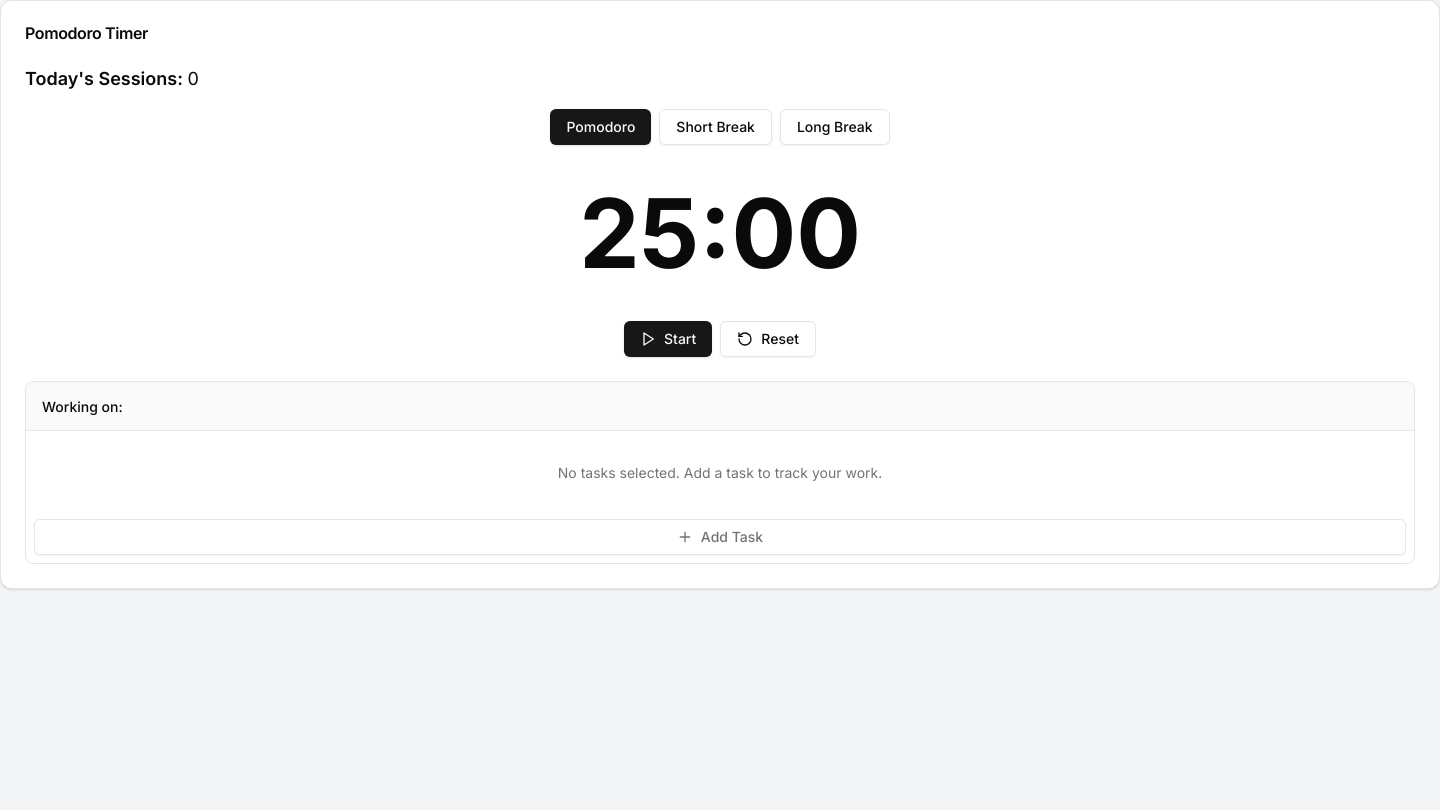
Test: PomodoroTimer › should switch between phases
Click the button "Short Break". click: point(716, 127)
box: [659,109,772,145]
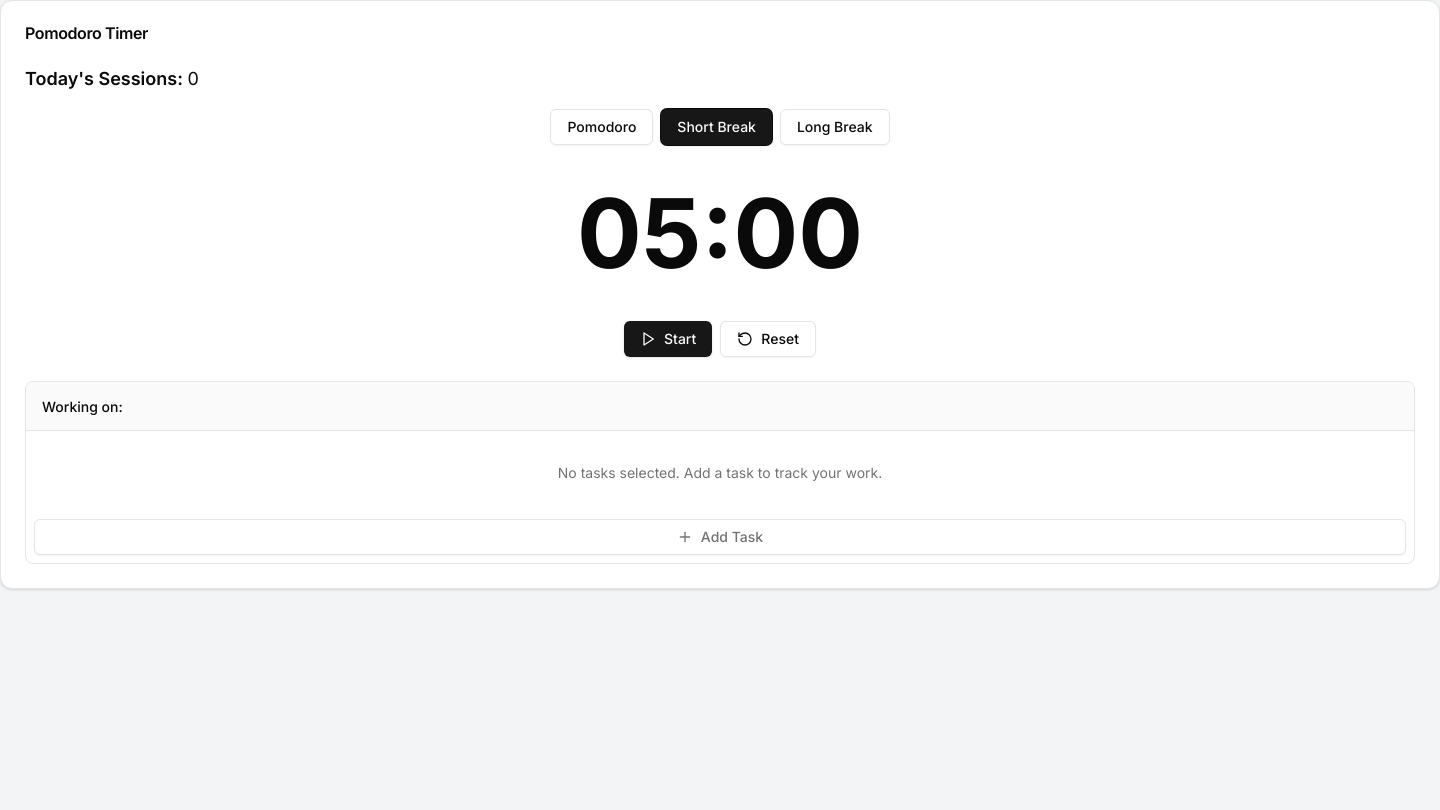
Check: the text "05:00" is shown, box [577,175,863,291]
Click the button "Long Break". click: point(835, 127)
box: [780,109,890,145]
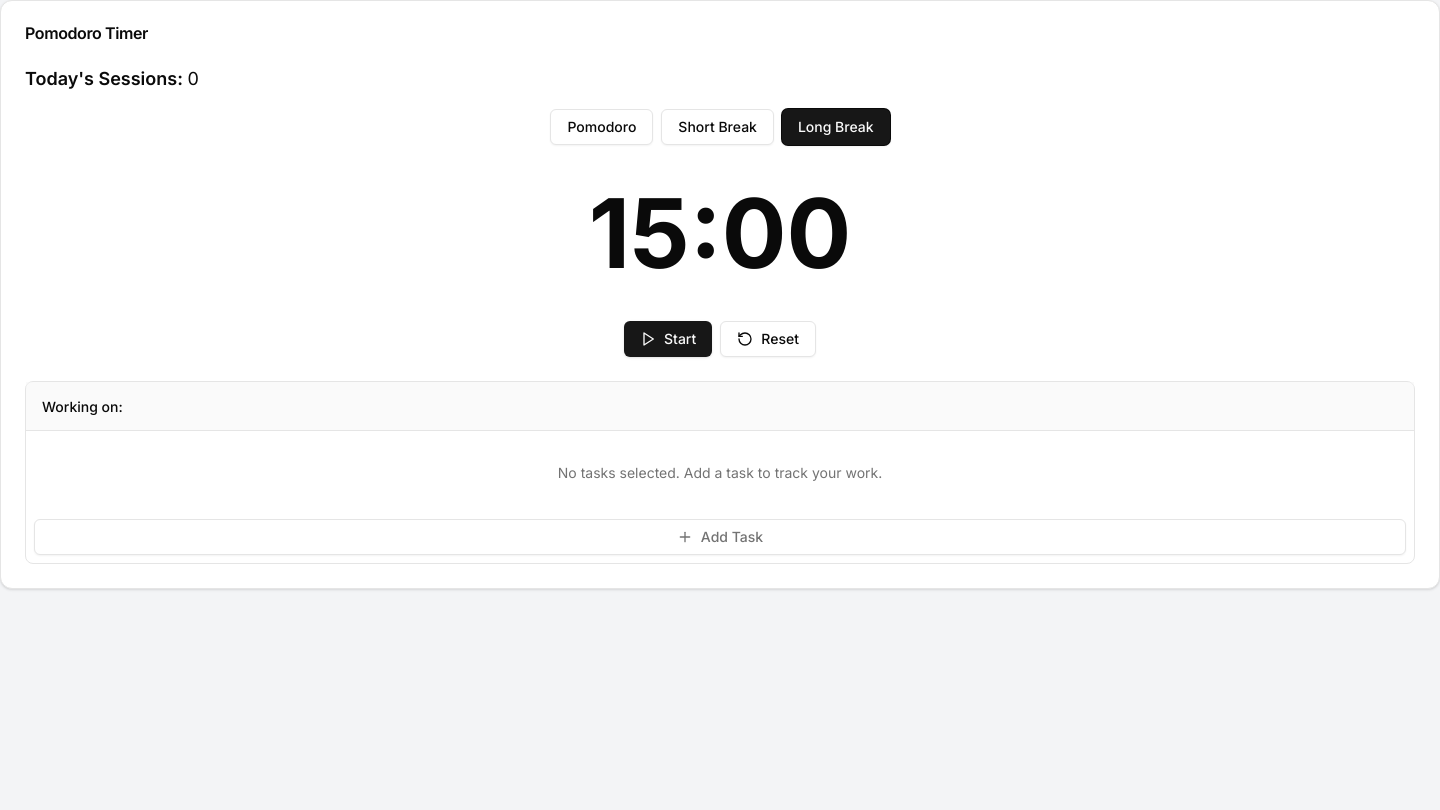
Check: the text "15:00" is shown, box [589,175,851,291]
Click the button "Pomodoro". click: point(602, 127)
box: [550,109,653,145]
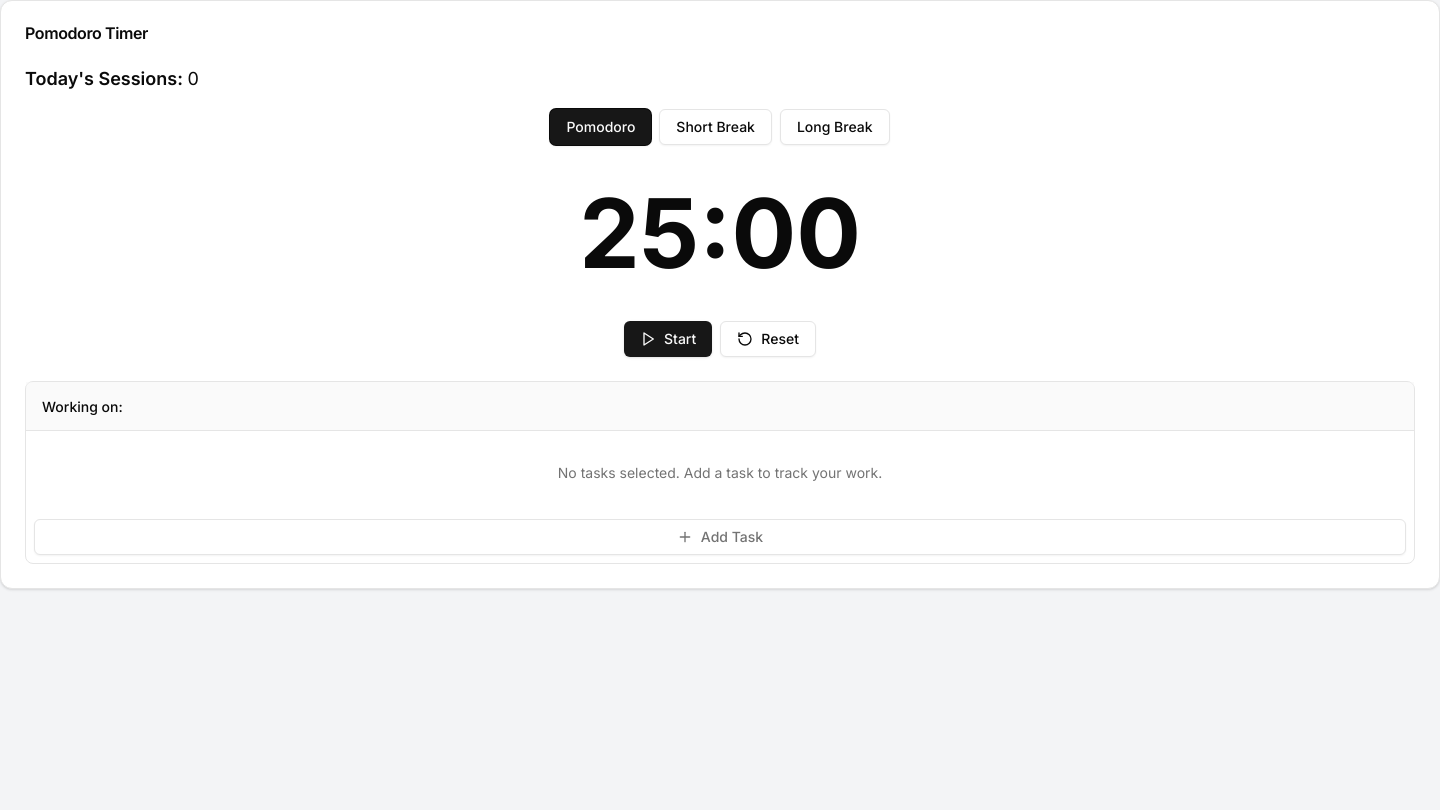
Check: the text "25:00" is shown, box [579,175,861,291]
